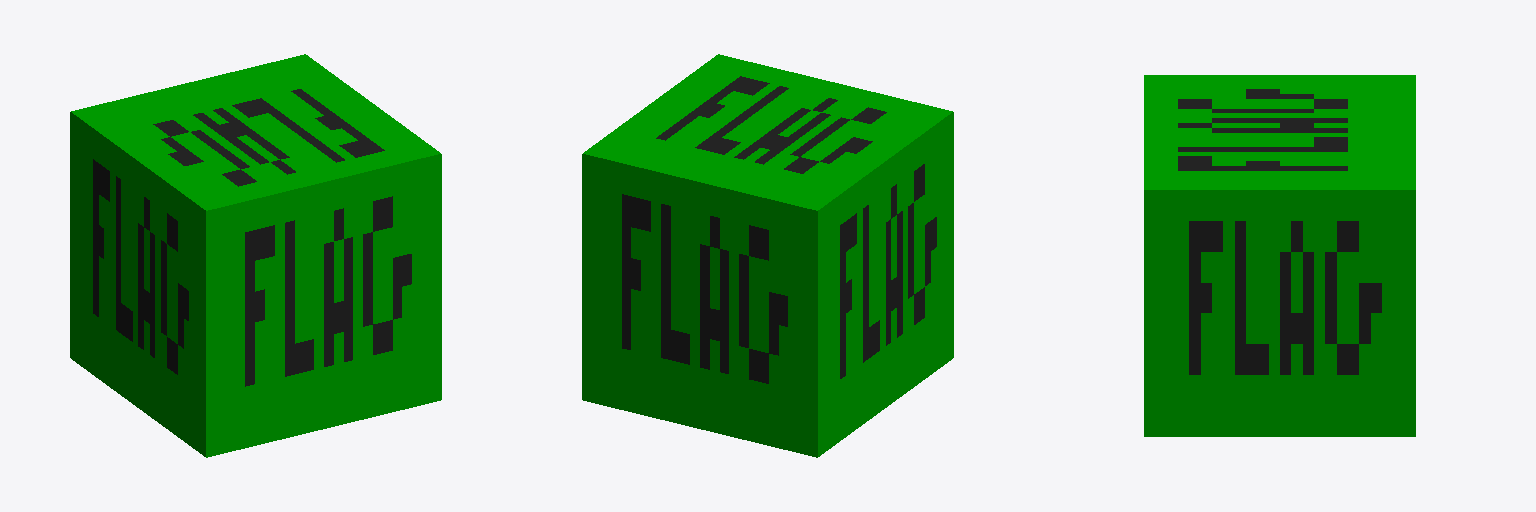
The picture shows the model from 3 angles: view 1: azimuth 30°, elevation 25°; view 2: azimuth 150°, elevation 25°; view 3: azimuth 270°, elevation 25°; orthographic projection.
Parts seen in each view (by area): view 1: T1L2M007_12; view 2: T1L2M007_12; view 3: T1L2M007_12.
Part boxes in pixels (left/top/right/bottom): T1L2M007_12: left=70, top=54, right=441, bottom=457; T1L2M007_12: left=582, top=54, right=953, bottom=457; T1L2M007_12: left=1144, top=75, right=1415, bottom=436.
Bounding box in the file's own units: 0.3994 × 0.4004 × 0.3994.
1 materials, 1 textured.